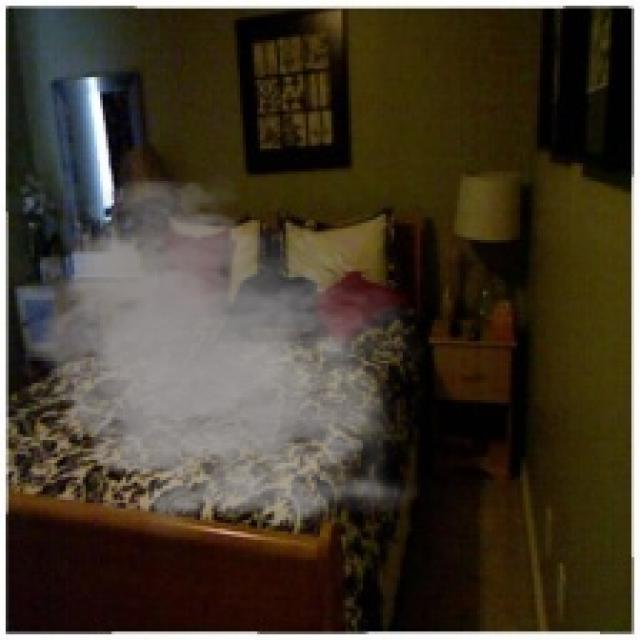smoke: (11, 166, 426, 543)
